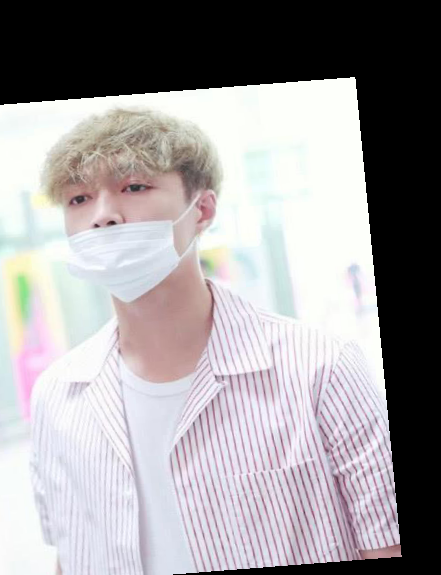mask_weared_incorrect: (29, 94, 244, 326)
